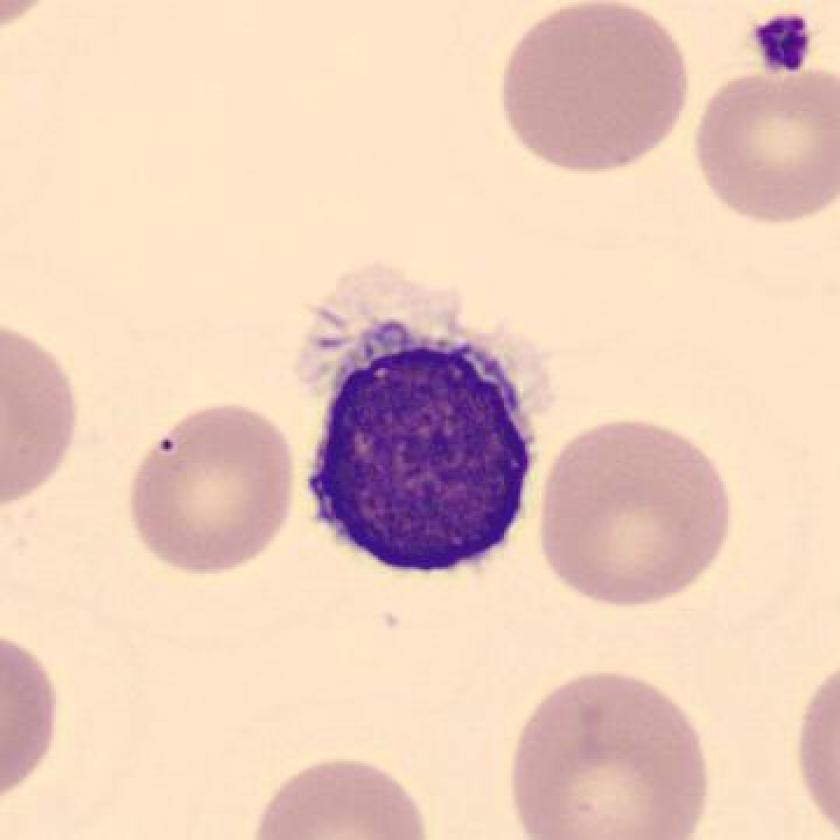lymphocyte: (284, 251, 557, 593)
